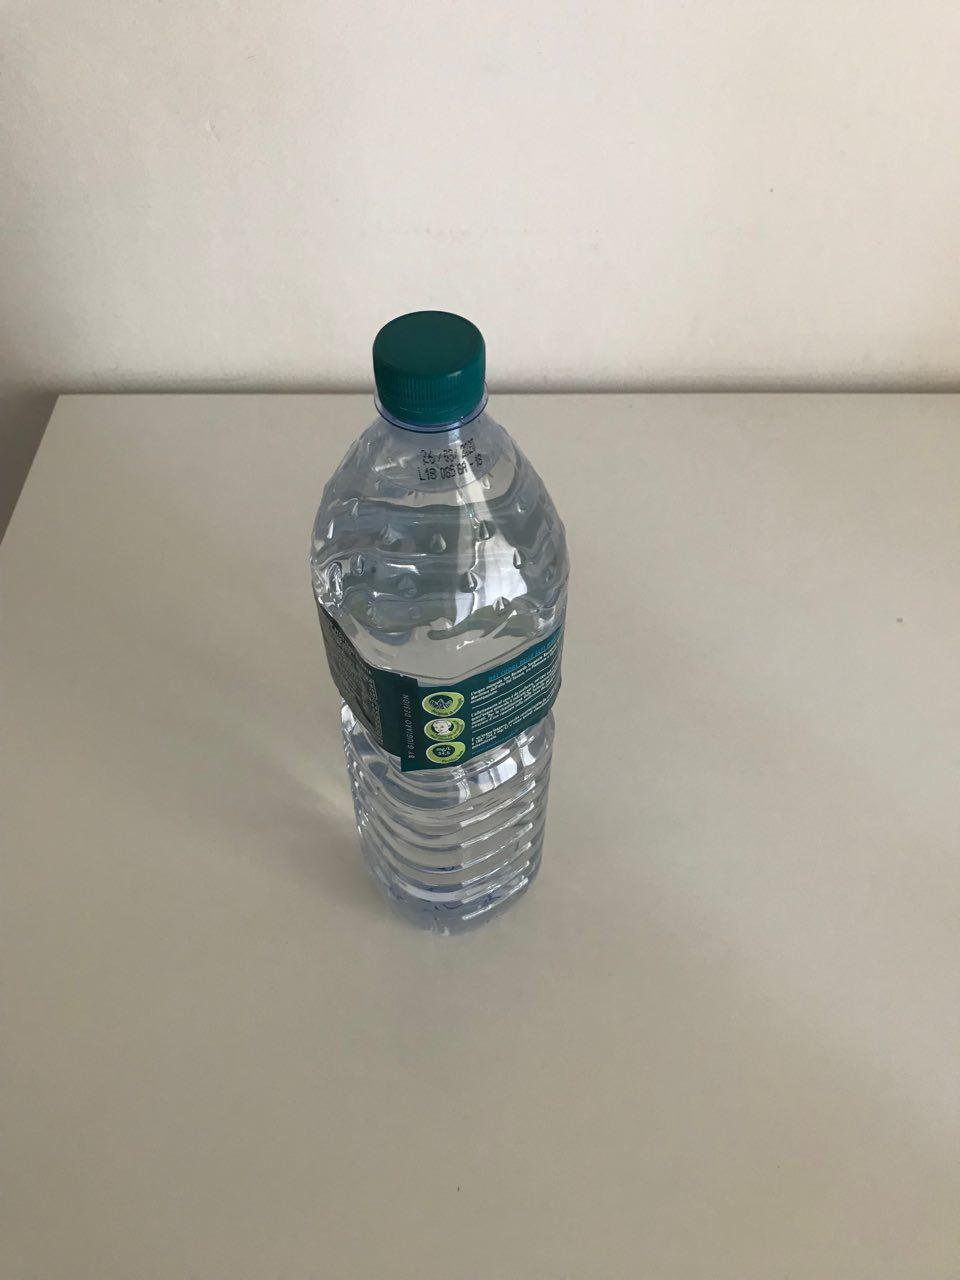san_bernardo: (308, 307, 570, 940)
